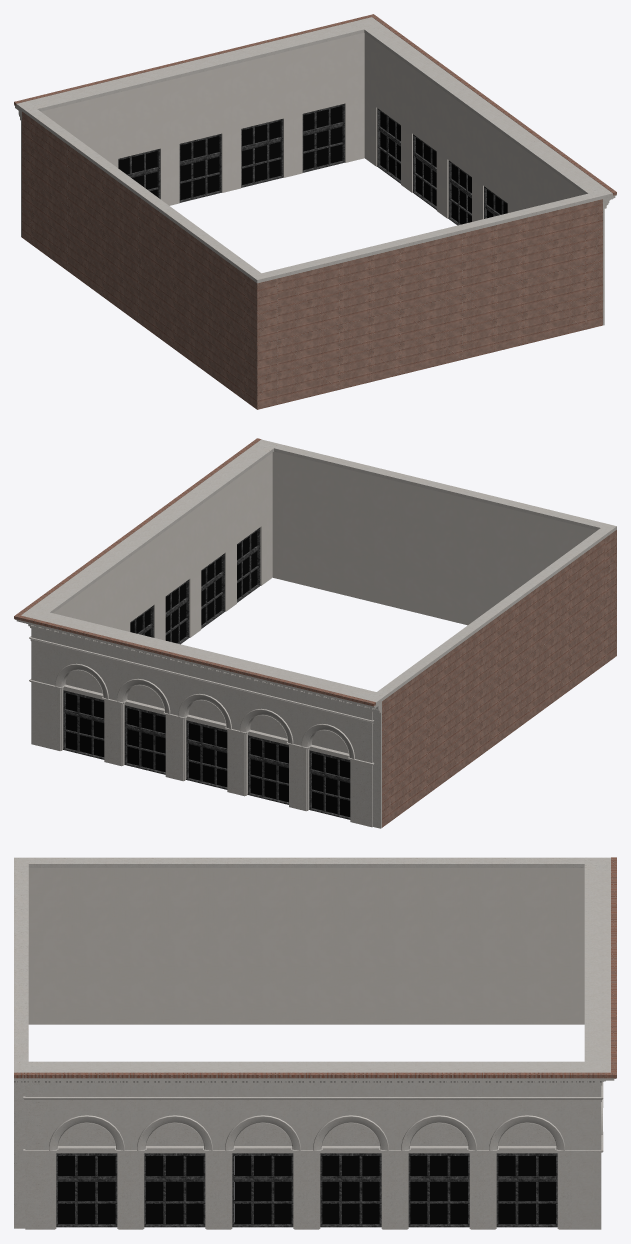
File: BuildingC_Top_VarA.fbx
3 renders of one model, top to bottom at view 1: azimuth 30°, elevation 25°; view 2: azimuth 150°, elevation 25°; view 3: azimuth 270°, elevation 25°, orthographic. The views are drawn at different scales.
Visible parts, largest first — view 1: BuildingC_Top_VarA; view 2: BuildingC_Top_VarA; view 3: BuildingC_Top_VarA.
Boxes of the visible parts, left/top/right/bottom form: BuildingC_Top_VarA: left=14, top=14, right=616, bottom=409; BuildingC_Top_VarA: left=14, top=438, right=616, bottom=828; BuildingC_Top_VarA: left=14, top=857, right=616, bottom=1229.
Bounding box in the file's own units: 1754 × 606 × 2054.
